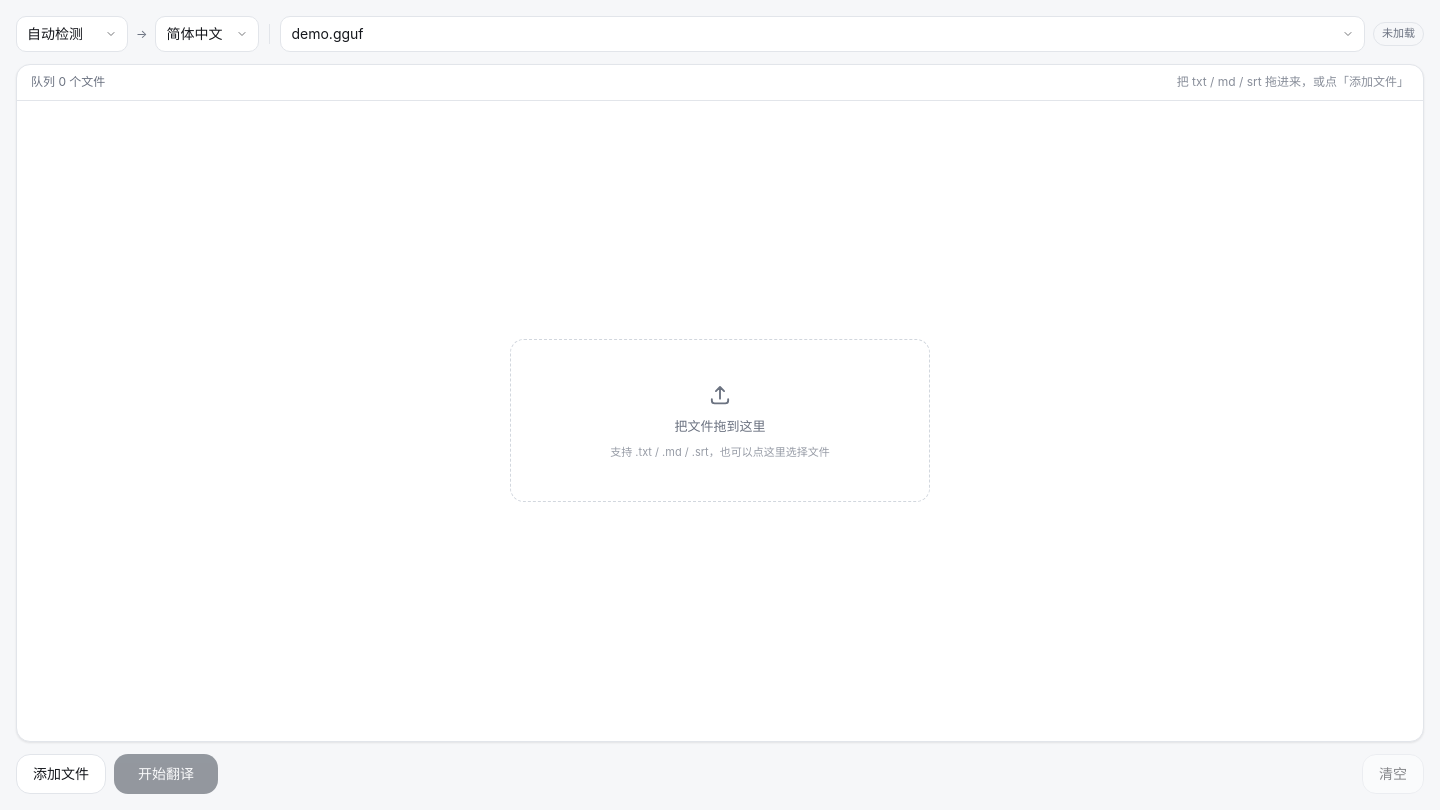
Test: Batch · 断点续传的界面反馈 › 失败片段会在完成后汇总里体现
Click the button "添加文件" at (61, 774), box [16,754,106,794]
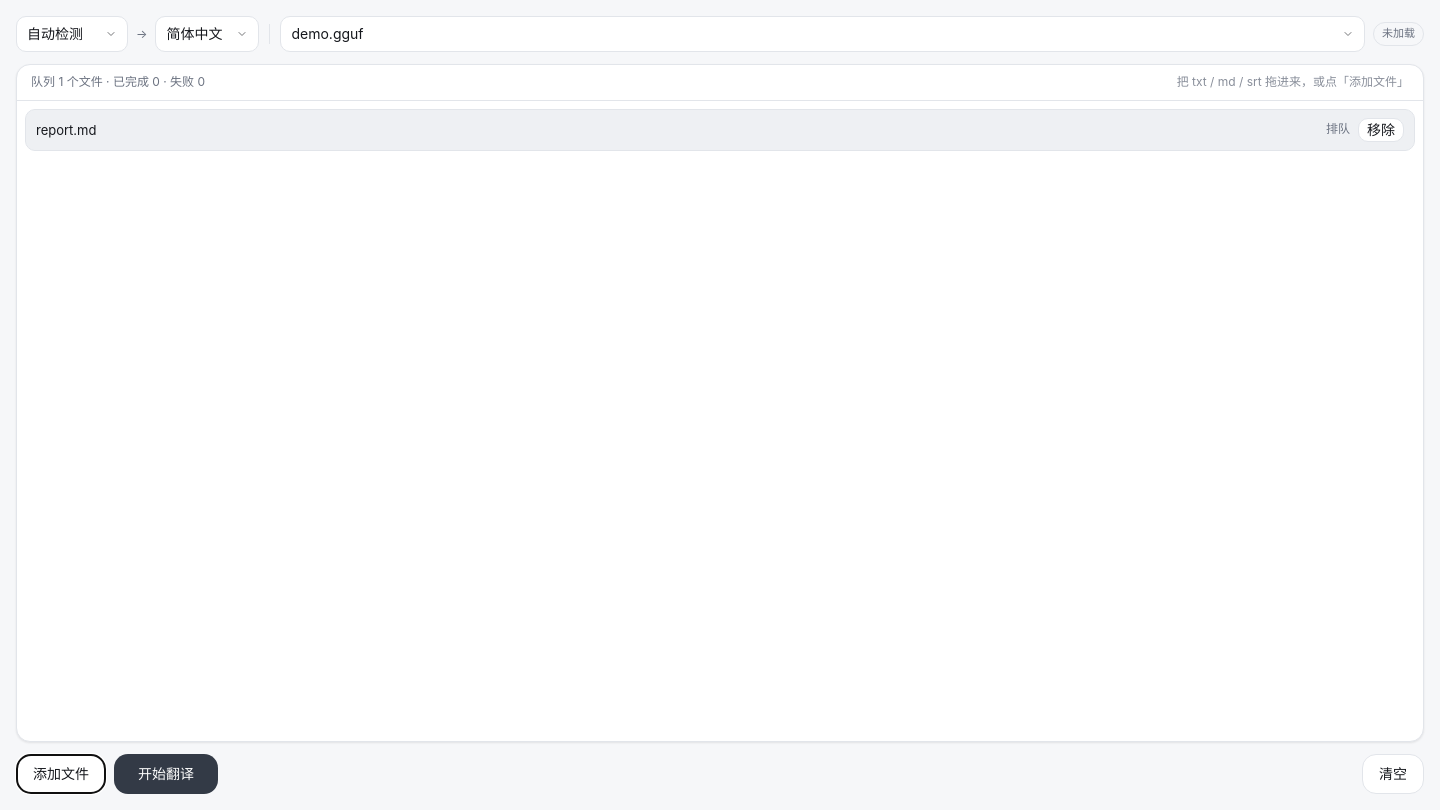
Now the text "report.md" is shown, box [36,122,96,138]
Click the button "开始翻译" at (166, 774), box [114,754,218,794]
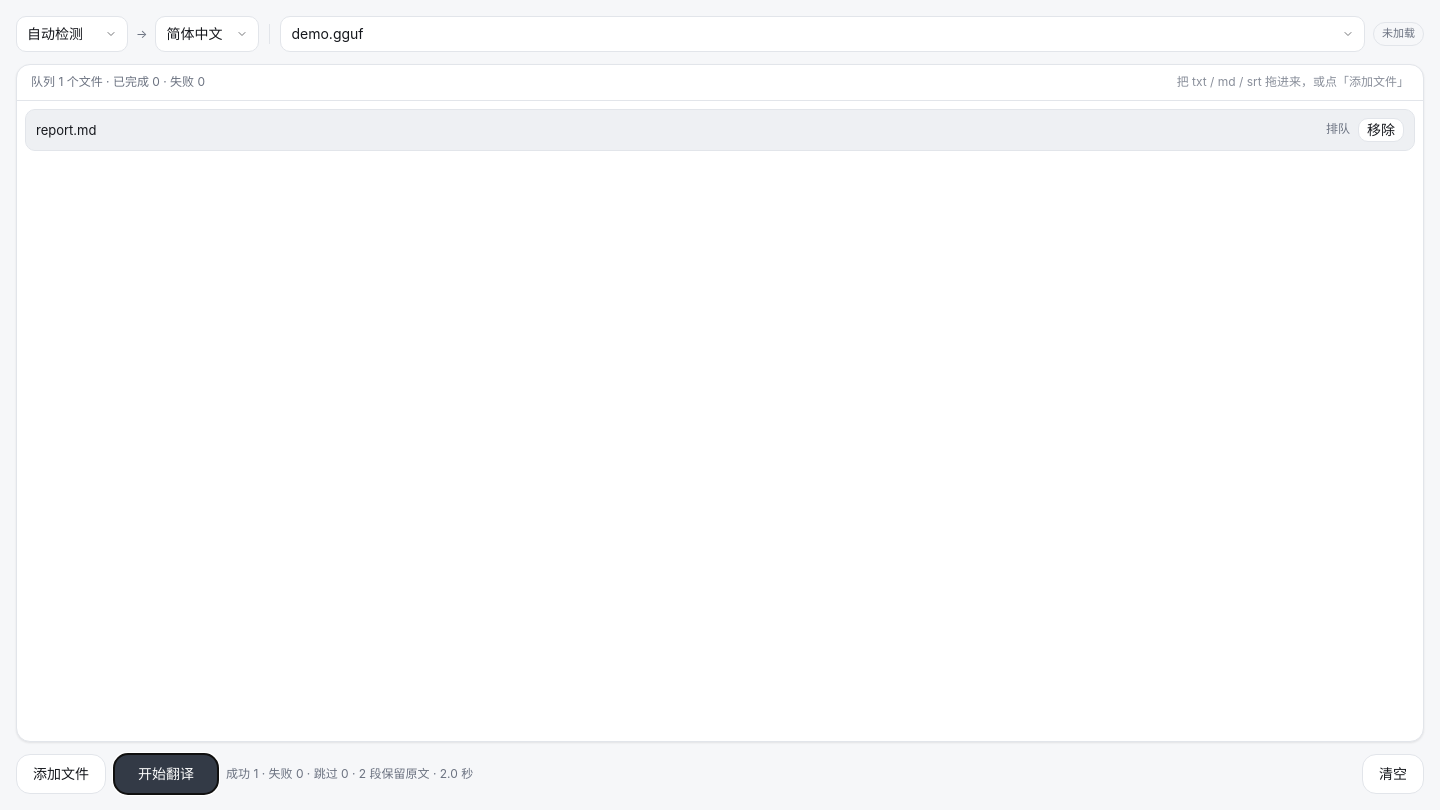
Now the text "成功 1 · 失败 0 · 跳过 0 · 2 段保留原文 · 2.0 秒" is shown, box [226,765,473,783]
